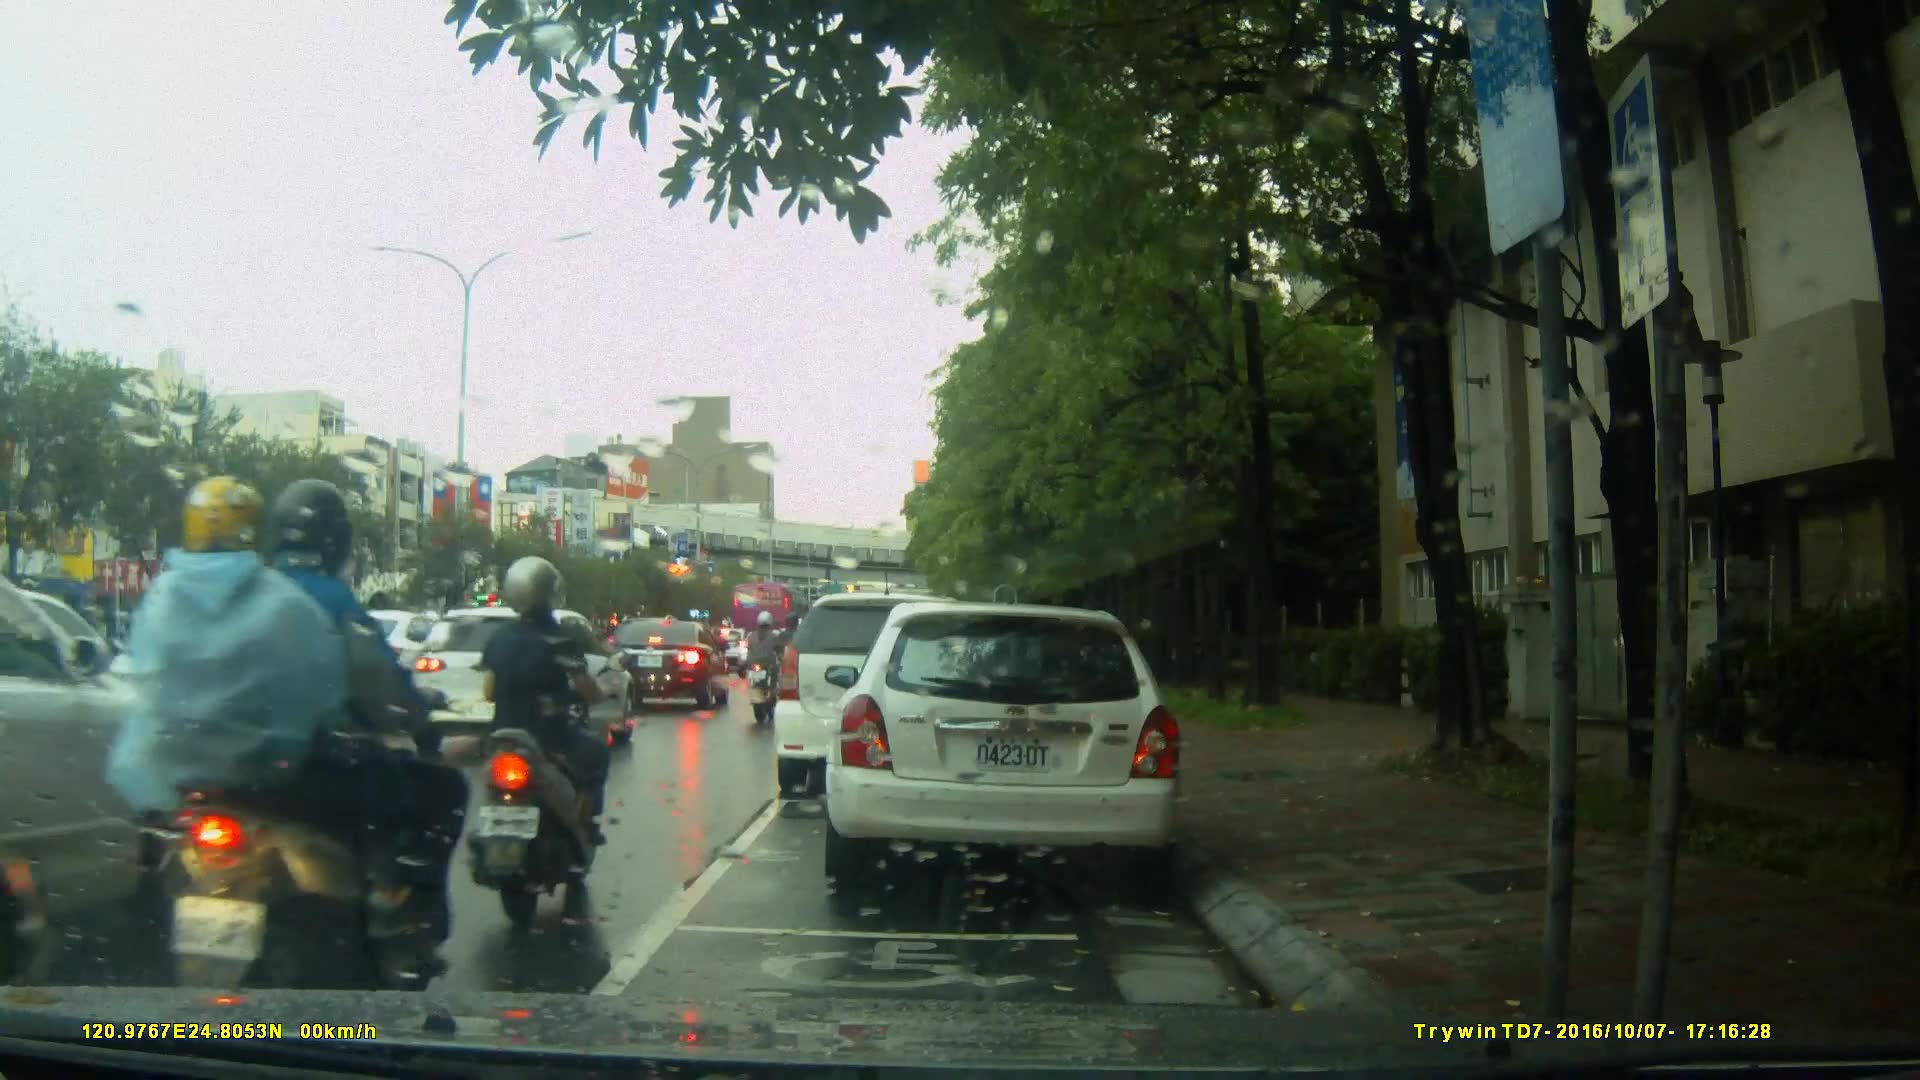rider: (99, 474, 473, 1024), (467, 560, 615, 926), (740, 612, 797, 731)
vehicle: (835, 594, 1194, 898), (776, 590, 1026, 784), (410, 605, 638, 757), (599, 616, 733, 712), (733, 581, 812, 652)
